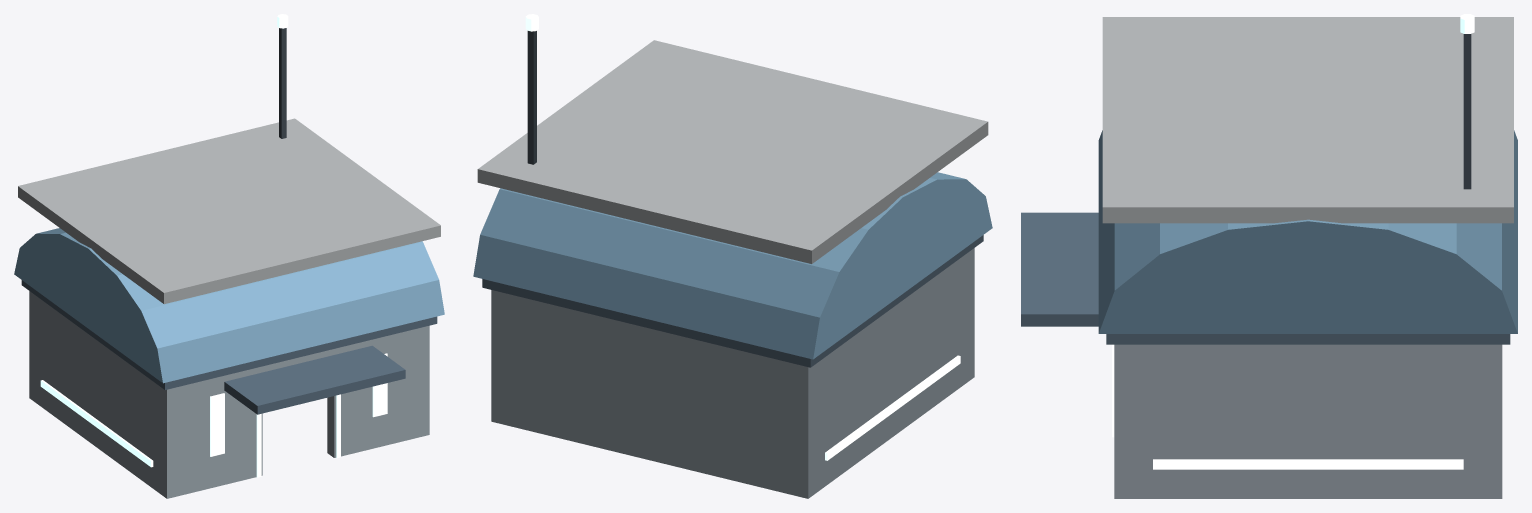
File: shaddai_dist_arctic_home_b_v01.glb
3 renders of one model, left to right at view 1: azimuth 30°, elevation 25°; view 2: azimuth 150°, elevation 25°; view 3: azimuth 270°, elevation 25°, orthographic. The views are drawn at different scales.
Visible parts, largest first — view 1: shaddai_dist_arctic_home_b; view 2: shaddai_dist_arctic_home_b; view 3: shaddai_dist_arctic_home_b.
Part boxes in pixels (x1,y1,x2,y2): shaddai_dist_arctic_home_b: [14, 14, 444, 498]; shaddai_dist_arctic_home_b: [473, 14, 992, 498]; shaddai_dist_arctic_home_b: [1021, 14, 1517, 498].
Bounding box in the file's own units: 11.8 × 13.28 × 12.8.
